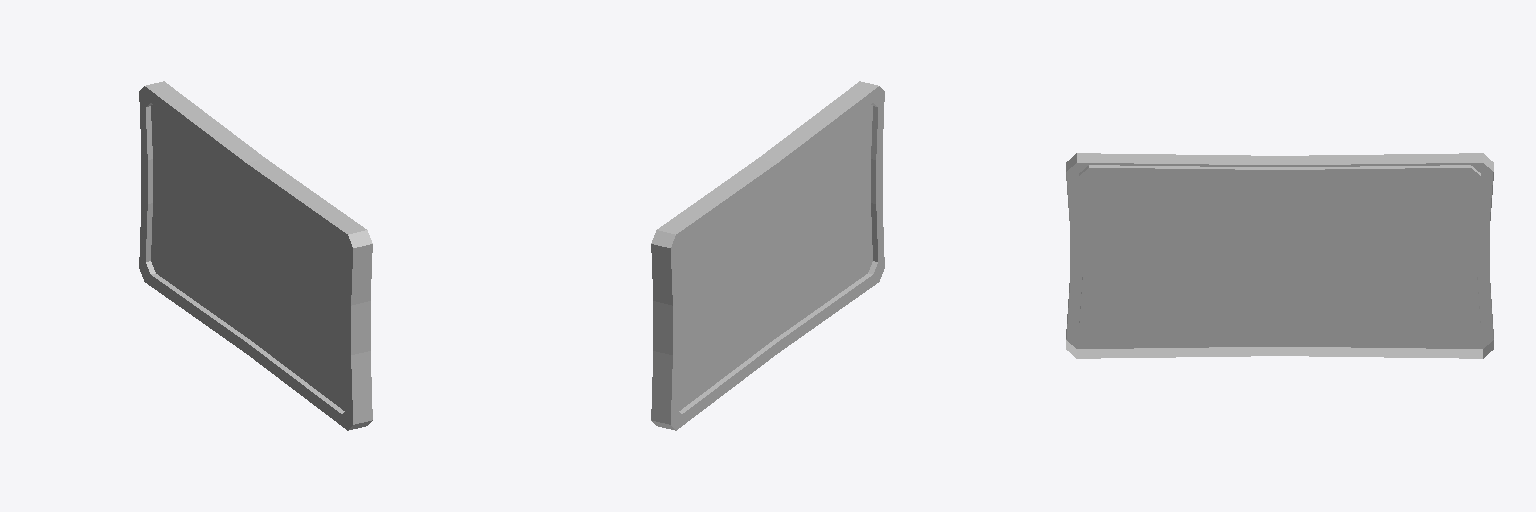
Rendered from BlackBoard_geo_kitchen.obj.
The picture shows the model from 3 angles: view 1: azimuth 30°, elevation 25°; view 2: azimuth 150°, elevation 25°; view 3: azimuth 270°, elevation 25°; orthographic projection.
Parts seen in each view (by area): view 1: BlackBoard_geo_kitchen:pCube10; view 2: BlackBoard_geo_kitchen:pCube10; view 3: BlackBoard_geo_kitchen:pCube10.
Part boxes in pixels (left/top/right/bottom): BlackBoard_geo_kitchen:pCube10: left=139, top=81, right=372, bottom=430; BlackBoard_geo_kitchen:pCube10: left=651, top=81, right=884, bottom=430; BlackBoard_geo_kitchen:pCube10: left=1066, top=153, right=1493, bottom=358.
Bounding box in the file's own units: 46.01 × 440 × 871.